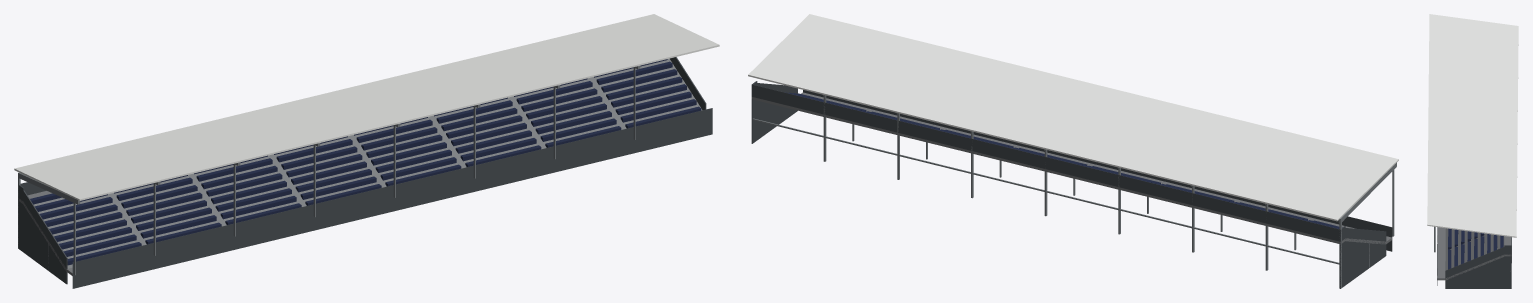
The model's file is sil_stand_stirling_b.glb.
3 views of the same model, side by side, from view 1: azimuth 30°, elevation 25°; view 2: azimuth 150°, elevation 25°; view 3: azimuth 270°, elevation 25° (orthographic). The views are drawn at different scales.
Visible parts, largest first — view 1: silverstone-stirling-b; view 2: silverstone-stirling-b; view 3: silverstone-stirling-b.
Boxes of the visible parts, box(x1,y1,x2,y2) form: silverstone-stirling-b: box(14, 14, 719, 288); silverstone-stirling-b: box(748, 14, 1398, 288); silverstone-stirling-b: box(1427, 14, 1518, 288).
Size of the model in its own units: 60.95 by 8.64 by 11.16.
